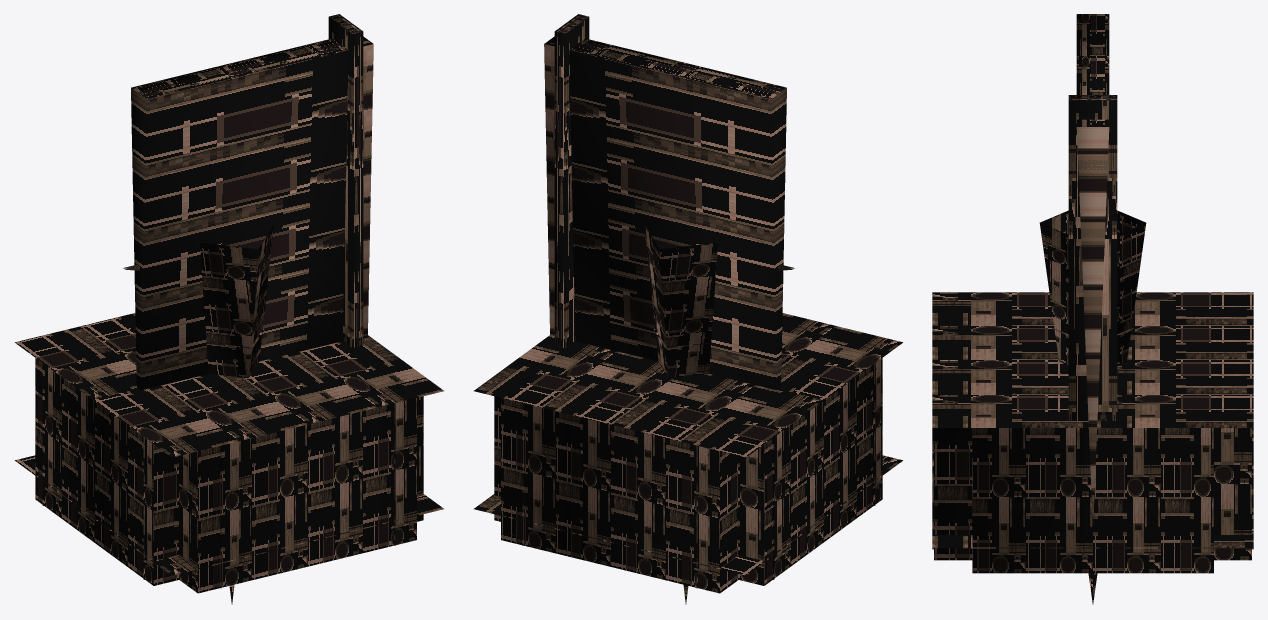
The model's file is 3358IMIG14_01.gltf.
The picture shows the model from 3 angles, left to right: view 1: azimuth 30°, elevation 25°; view 2: azimuth 150°, elevation 25°; view 3: azimuth 270°, elevation 25°; orthographic projection.
Parts seen in each view (by area): view 1: 3358IMIG14_01; view 2: 3358IMIG14_01; view 3: 3358IMIG14_01.
Boxes of the visible parts, x1,y1,x2,y2 form: 3358IMIG14_01: (15,14,443,604); 3358IMIG14_01: (474,14,902,604); 3358IMIG14_01: (932,14,1253,604).
Size of the model in its own units: 1.5 by 2.91 by 1.5.
Materials: 1 (1 with a texture image).
